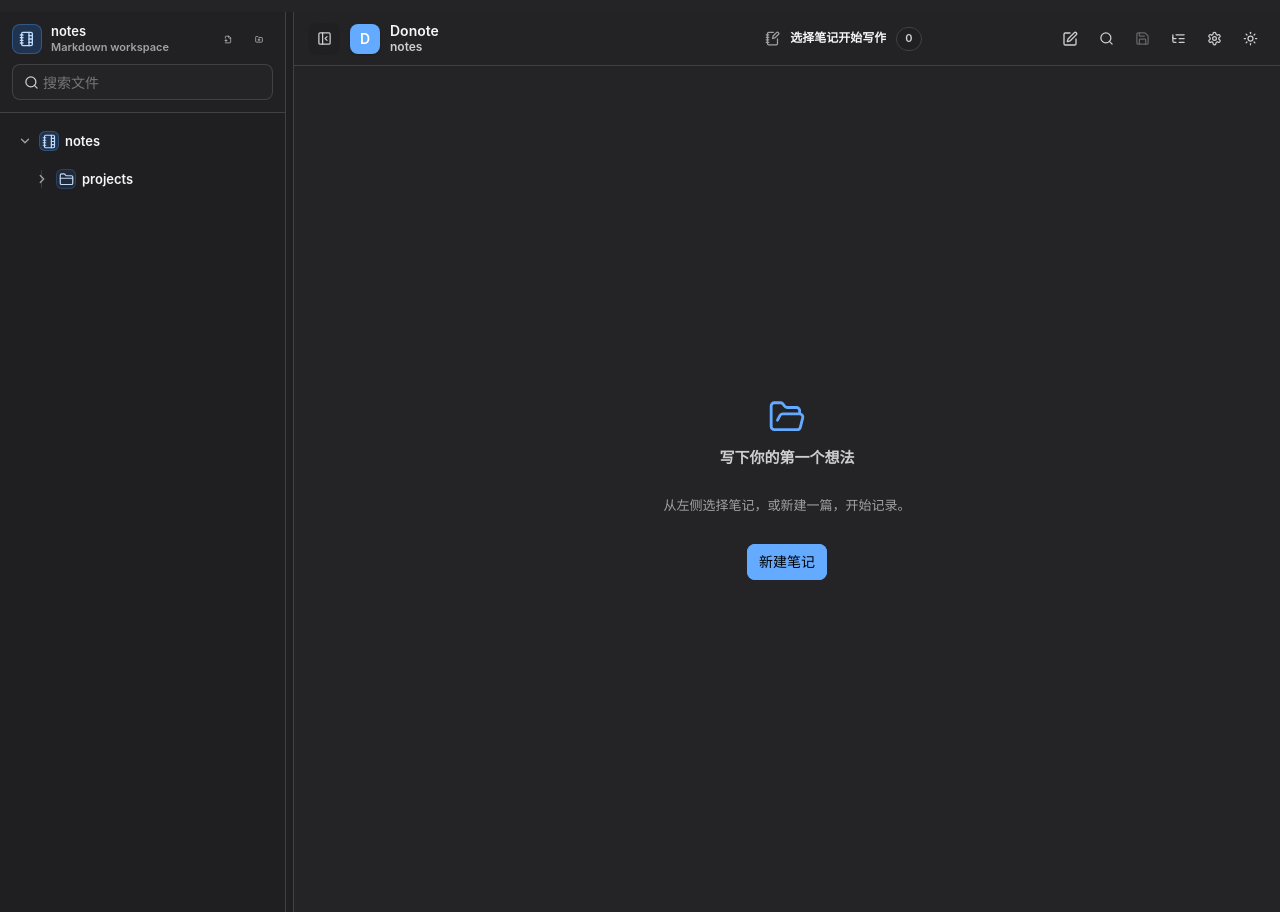
Test: App shell › renames a tree folder from the context menu
This screenshot has width=1280, height=912.
Right-click the button with test id "folder-projects" at (108, 179), box [8,163,277,195]
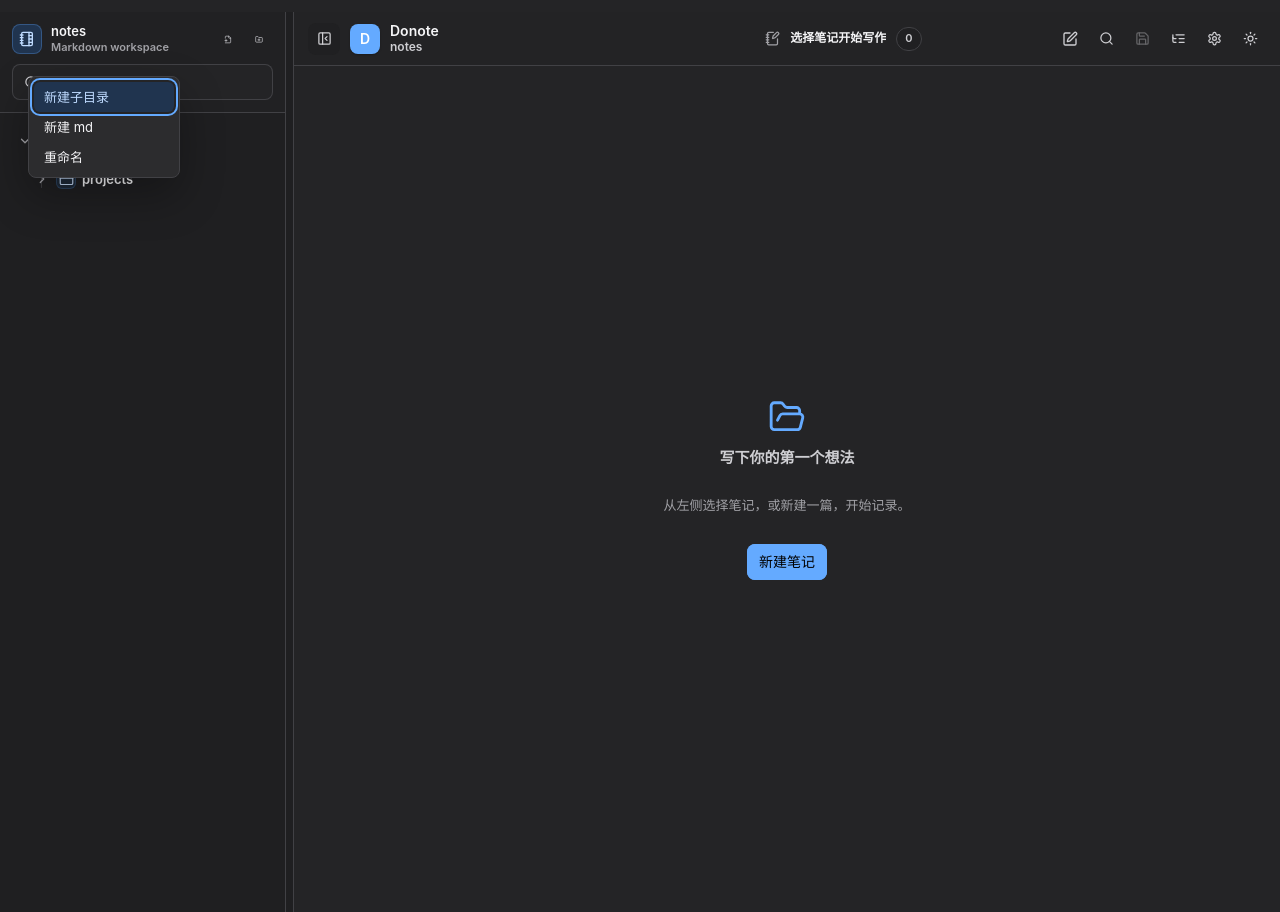
Click the menu item with test id "context-rename" at (104, 157), box [34,142,174,172]
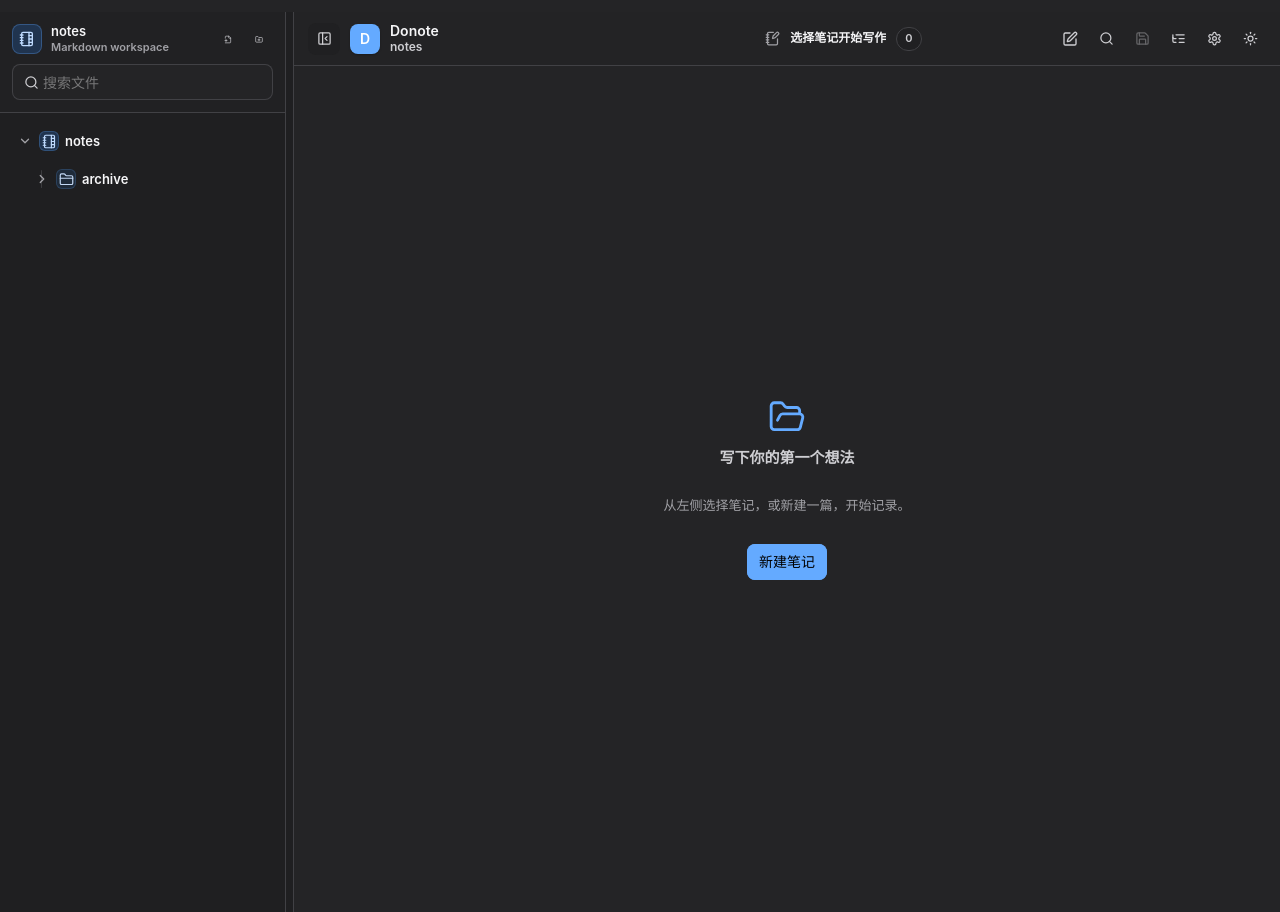
Now the text "archive" is shown, box [82,170,128,187]
